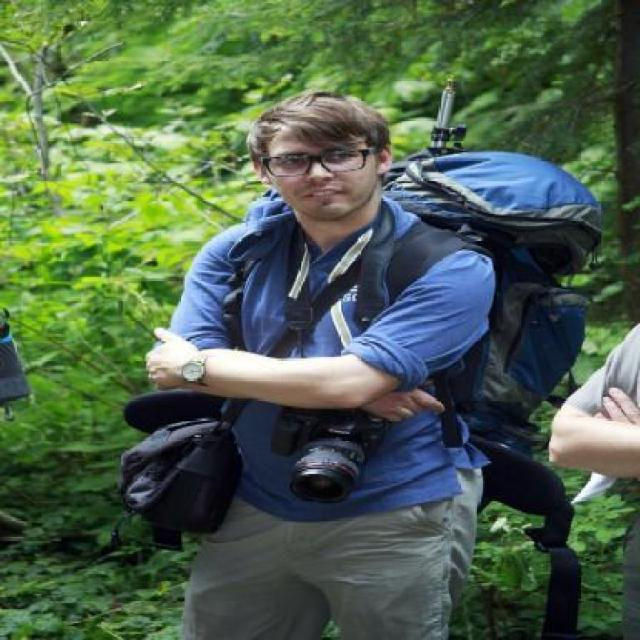backpack: (391, 142, 606, 463), (100, 411, 251, 542)
